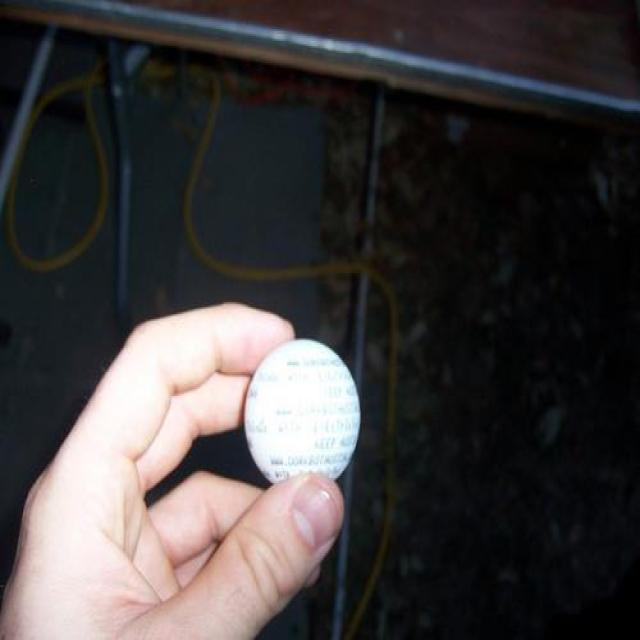ping-pong-ball: (242, 337, 362, 492)
